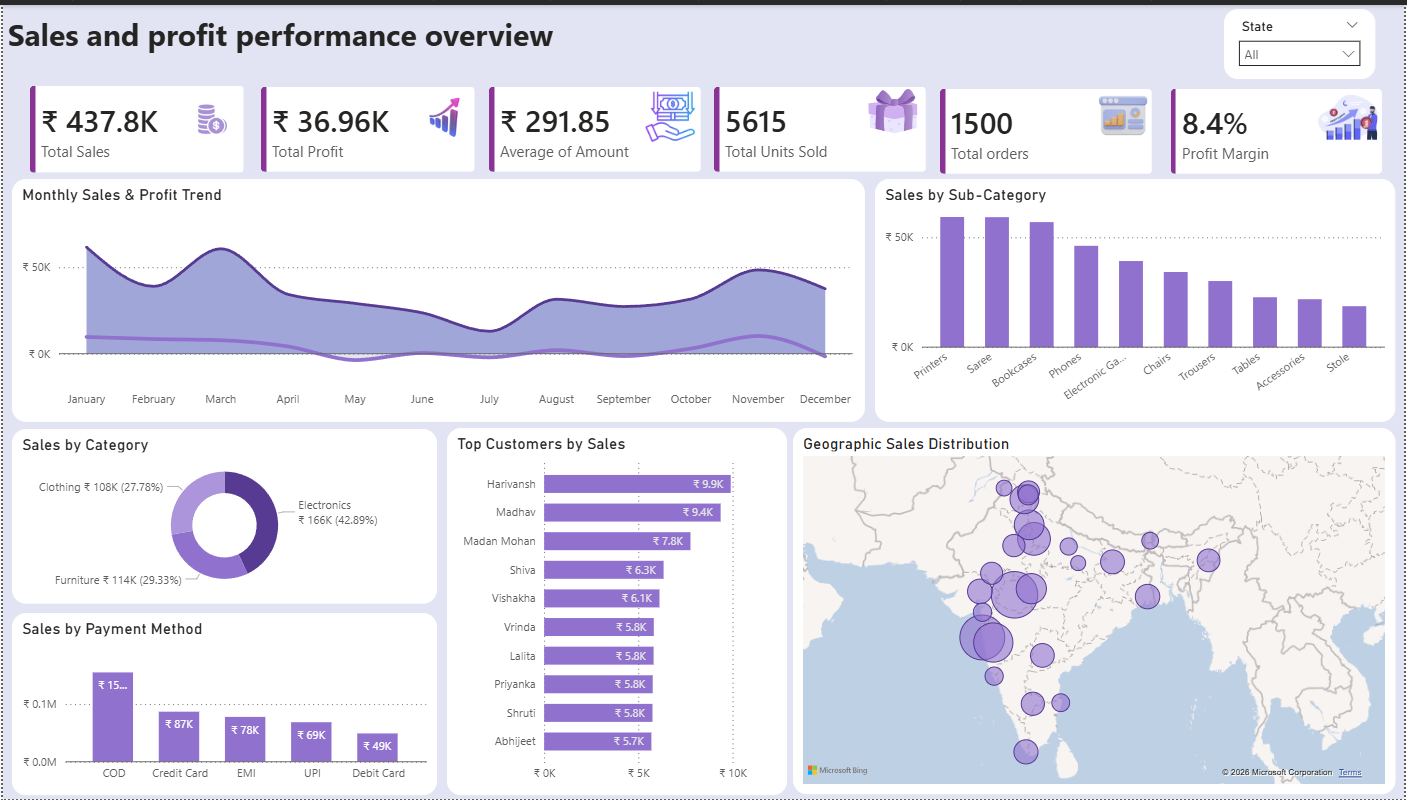

The dashboard page shown, as its layout file describes it:
{"tool":"powerbi","page":{"name":"Page 1","canvas":[1500,850],"ordinal":0},"visuals":[{"type":"lineChart","title":"Monthly Sales & Profit Trend","fields":{"Y":["Sum(Details.Amount)","Sum(Details.Profit)"],"Category":["Orders.Order Date.Variation.Date Hierarchy.Month"]},"box":[10,186.1,913.3,260],"z":0},{"type":"slicer","fields":{"Values":["Orders.State"]},"box":[1307.2,4.3,162.3,75.4],"z":1000},{"type":"cardVisual","fields":{"Data":["Details.margin %"]},"box":[1233,71.9,260,125.8],"z":2000,"group":"g2"},{"type":"columnChart","title":"Sales by Sub-Category","fields":{"Category":["Details.Sub-Category"],"Y":["Sum(Details.Amount)"]},"box":[934,186,557,260],"z":2000},{"type":"textbox","box":[0.3,4.7,703.3,75],"z":3000},{"type":"donutChart","title":"Sales by Category","fields":{"Category":["Details.Category"],"Y":["Sum(Details.Amount)"]},"box":[10.4,453.4,455,187.1],"z":3000,"group":"g1"},{"type":"map","title":"Geographic Sales Distribution","fields":{"Category":["Orders.City"],"Size":["Sum(Details.Amount)"]},"box":[846.5,452.9,644.9,392.1],"z":4000,"group":"g1"},{"type":"group","id":"g1","title":"Group 3","box":[10,452.9,1481.4,393.2],"z":5000},{"type":"barChart","title":"Top Customers by Sales","fields":{"Category":["Orders.CustomerName"],"Y":["Sum(Details.Amount)"]},"box":[475.8,452.9,364.4,393.2],"z":5000,"group":"g1"},{"type":"columnChart","title":"Sales by Payment Method","fields":{"Category":["Details.PaymentMode"],"Y":["Sum(Details.Amount)"]},"box":[10,650.5,455,195.2],"z":6000,"group":"g1"},{"type":"group","id":"g2","title":"Group 1","box":[11.6,69.1,1481.4,128.6],"z":7000,"group":"g4"},{"type":"image","box":[172.8,79.3,102.1,85.7],"z":8000,"group":"g3"},{"type":"cardVisual","title":"ASDFA","fields":{"Data":["Sum(Details.Amount)"]},"box":[11.6,69.1,263.2,127.2],"z":9000,"group":"g2"},{"type":"image","box":[434.4,84.8,68.5,63],"z":9000,"group":"g3"},{"type":"image","box":[685.1,91.6,56.2,54.8],"z":10000,"group":"g3"},{"type":"cardVisual","fields":{"Data":["Sum(Details.Profit)"]},"box":[258.8,70.5,263.2,125.8],"z":11000,"group":"g2"},{"type":"image","box":[922.3,87.1,58.9,52.1],"z":11000,"group":"g3"},{"type":"cardVisual","fields":{"Data":["Avg(Details.Amount)"]},"box":[502.7,70.5,261.6,125.8],"z":12000,"group":"g2"},{"type":"image","box":[1407,94.4,64.4,52.1],"z":12000,"group":"g3"},{"type":"cardVisual","fields":{"Data":["Sum(Details.Quantity)"]},"box":[743.5,70.5,261.6,125.8],"z":13000,"group":"g2"},{"type":"image","box":[1168.5,87.2,60,61.4],"z":13000,"group":"g3"},{"type":"group","id":"g3","title":"Group 2","box":[172.8,79.3,1298.6,85.7],"z":13001,"group":"g4"},{"type":"group","id":"g4","title":"Group 4","box":[11.6,69.1,1481.4,128.6],"z":13002},{"type":"cardVisual","fields":{"Data":["CountNonNull(Details.Order ID)"]},"box":[985.8,71.9,261.6,125.8],"z":14000,"group":"g2"}]}

Visuals, with their boxes in screenshot pixels (x1, y1, x2, y2), scaled from the page's 1500x850 canvas onto the 1407x800 screenshot:
"Monthly Sales & Profit Trend" lineChart: crop(9, 175, 866, 420)
slicer - Orders.State: crop(1226, 4, 1378, 75)
cardVisual - Details.margin %: crop(1157, 68, 1400, 186)
"Sales by Sub-Category" columnChart: crop(876, 175, 1399, 420)
textbox: crop(0, 4, 660, 75)
"Sales by Category" donutChart: crop(10, 427, 437, 603)
"Geographic Sales Distribution" map: crop(794, 426, 1399, 795)
"Group 3" group: crop(9, 426, 1399, 796)
"Top Customers by Sales" barChart: crop(446, 426, 788, 796)
"Sales by Payment Method" columnChart: crop(9, 612, 436, 796)
"Group 1" group: crop(11, 65, 1400, 186)
image: crop(162, 75, 258, 155)
"ASDFA" cardVisual: crop(11, 65, 258, 185)
image: crop(407, 80, 472, 139)
image: crop(643, 86, 695, 138)
cardVisual - Sum(Details.Profit): crop(243, 66, 490, 185)
image: crop(865, 82, 920, 131)
cardVisual - Avg(Details.Amount): crop(472, 66, 717, 185)
image: crop(1320, 89, 1380, 138)
cardVisual - Sum(Details.Quantity): crop(697, 66, 943, 185)
image: crop(1096, 82, 1152, 140)
"Group 2" group: crop(162, 75, 1380, 155)
"Group 4" group: crop(11, 65, 1400, 186)
cardVisual - CountNonNull(Details.Order ID): crop(925, 68, 1170, 186)
